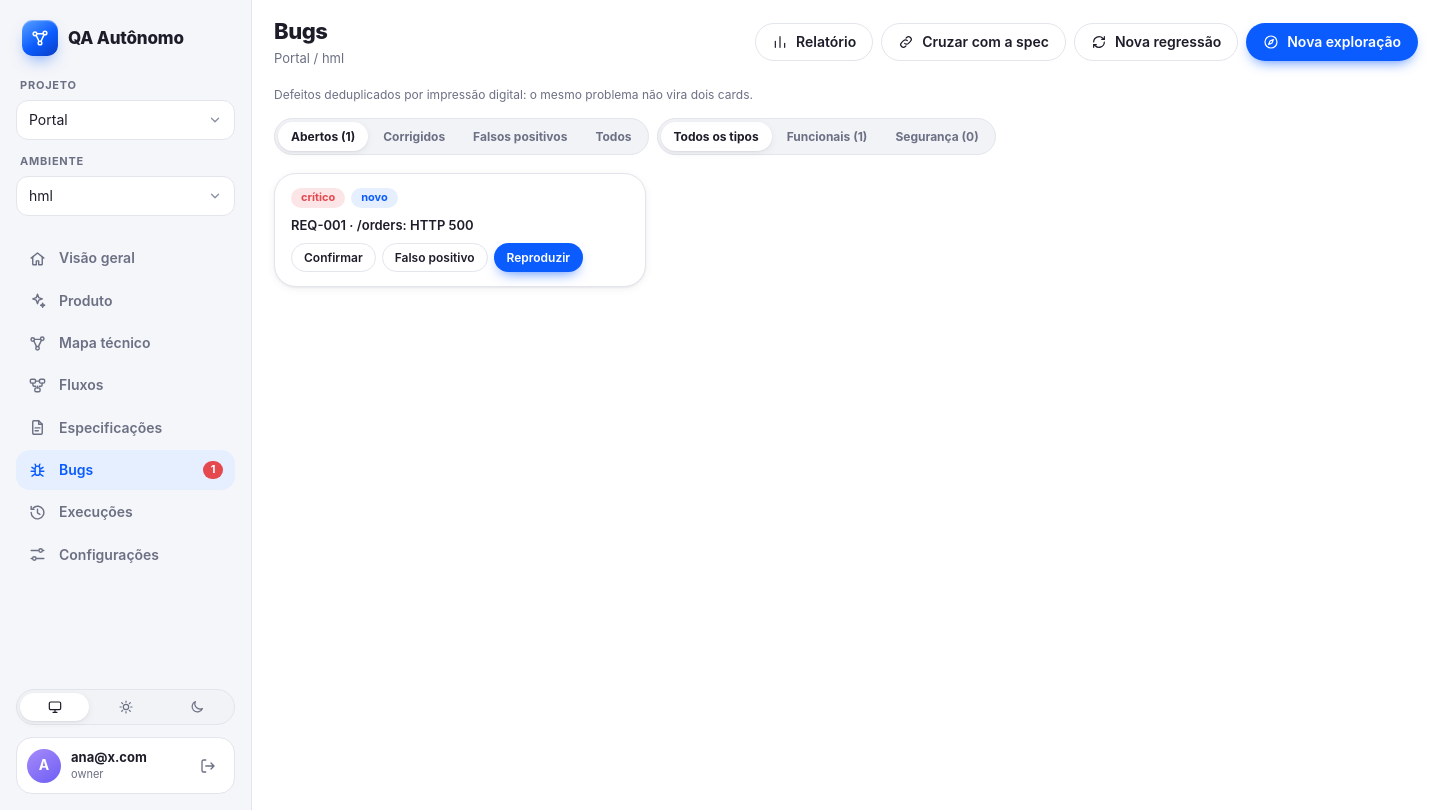
Test case: relatório geral › pede à IA o texto no mesmo formato e troca só o texto, mantendo os fatos
Click the button "Relatório" at (814, 42), box [755,23,873,61]
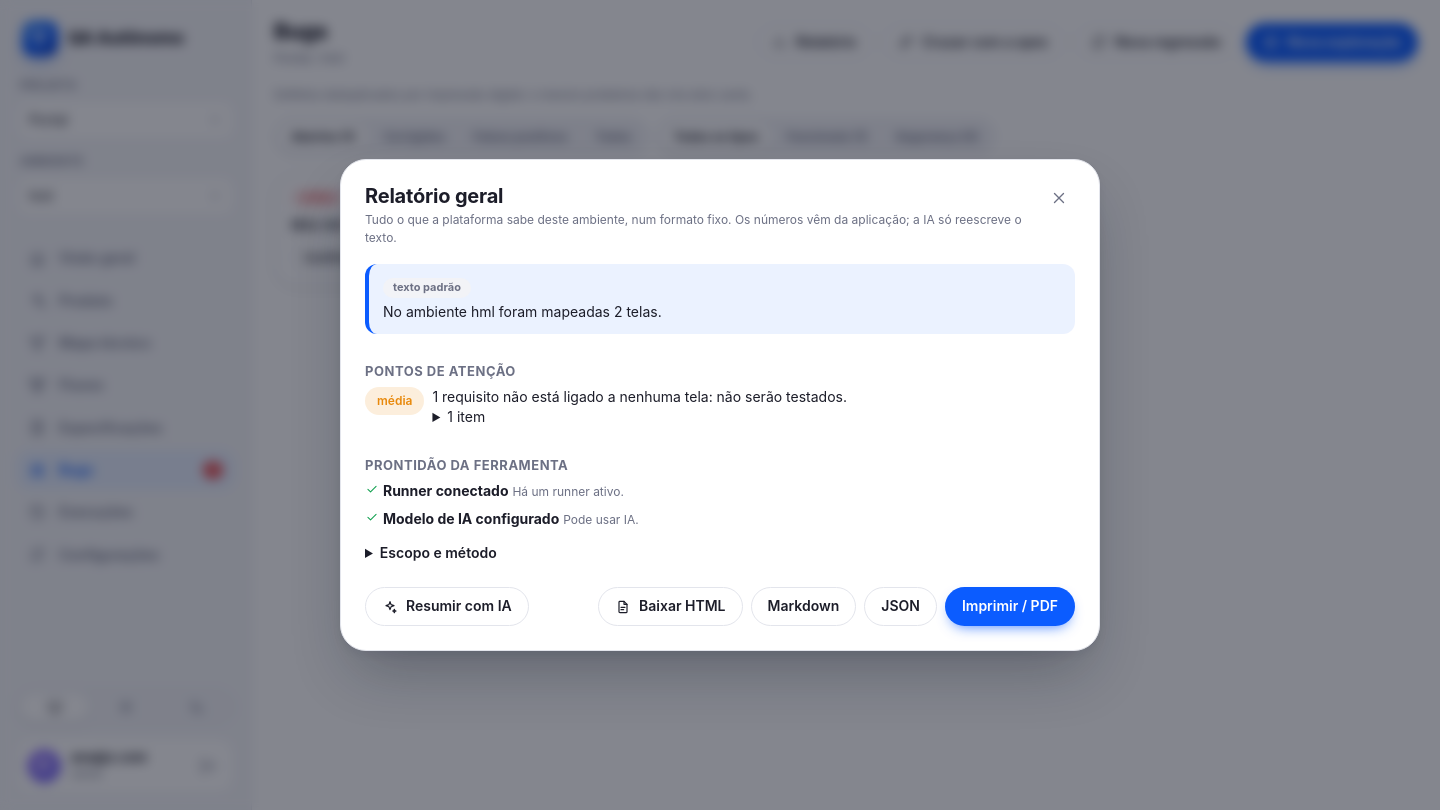
Expected: the text "No ambiente hml foram mapeadas 2 telas." is shown, [383,303,662,320]
Click the button "Resumir com IA" at (447, 607), box [365,587,529,626]
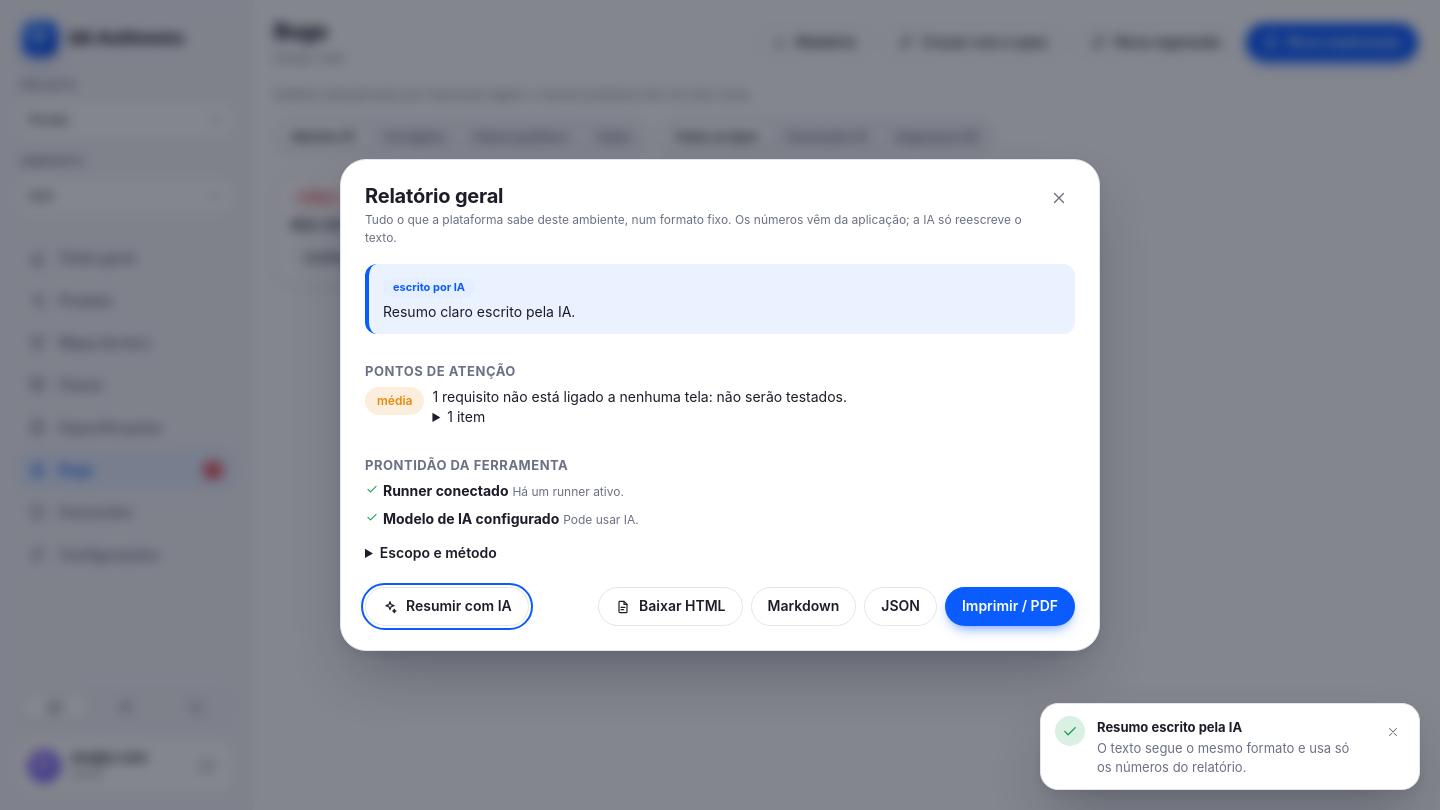
Expected: the text "1 requisito não está ligado" is shown, [432,388,847,405]
Expected: the text "Resumo claro escrito pela IA." is shown, [383,303,575,320]
Expected: the text "escrito por IA" is shown, [383,278,475,298]
